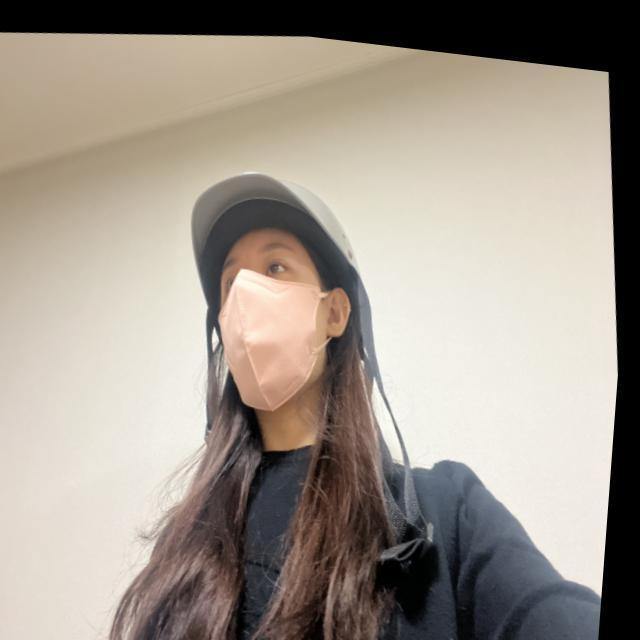Helmet: (174, 155, 390, 420)
